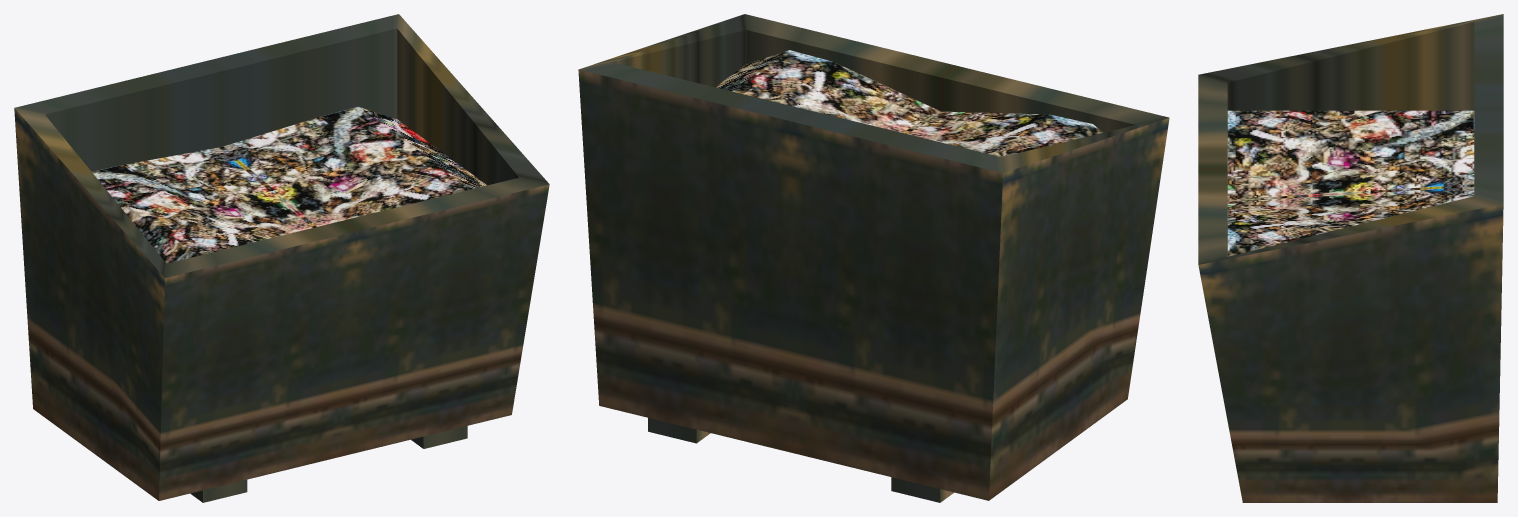
Rendered from Dumpster.glb.
3 views of the same model, side by side, from view 1: azimuth 30°, elevation 25°; view 2: azimuth 150°, elevation 25°; view 3: azimuth 270°, elevation 25° (orthographic). The views are drawn at different scales.
Parts seen in each view (by area): view 1: Cube; view 2: Cube; view 3: Cube.
Boxes of the visible parts, x1,y1,x2,y2 form: Cube: (14, 14, 549, 502); Cube: (578, 14, 1169, 502); Cube: (1198, 14, 1503, 502).
Size of the model in its own units: 2.95 by 2.31 by 2.
2 materials, 2 textured.
